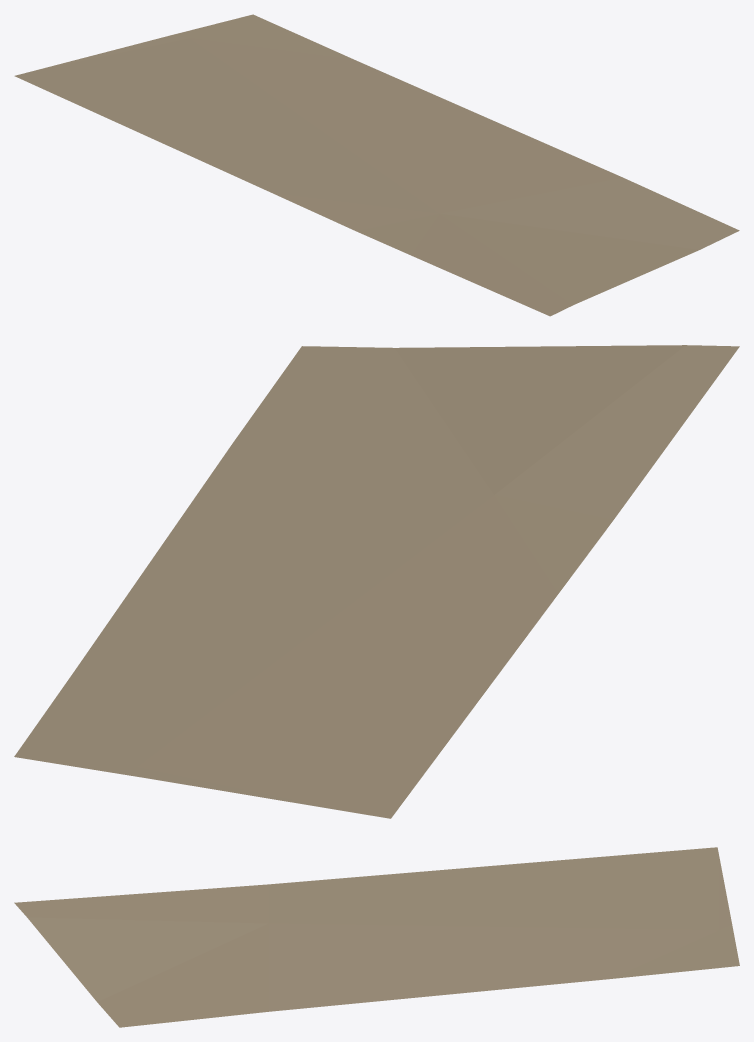
The model's file is farm_14_22_soil.glb.
3 views of the same model, one above another, from view 1: azimuth 30°, elevation 25°; view 2: azimuth 150°, elevation 25°; view 3: azimuth 270°, elevation 25° (orthographic). The views are drawn at different scales.
Parts seen in each view (by area): view 1: geometry_0; view 2: geometry_0; view 3: geometry_0.
Boxes of the visible parts, bbox=[...] form: geometry_0: bbox=[14, 14, 739, 316]; geometry_0: bbox=[14, 345, 739, 818]; geometry_0: bbox=[14, 847, 739, 1027].
Size of the model in its own units: 72.83 by 3.28 by 129.
